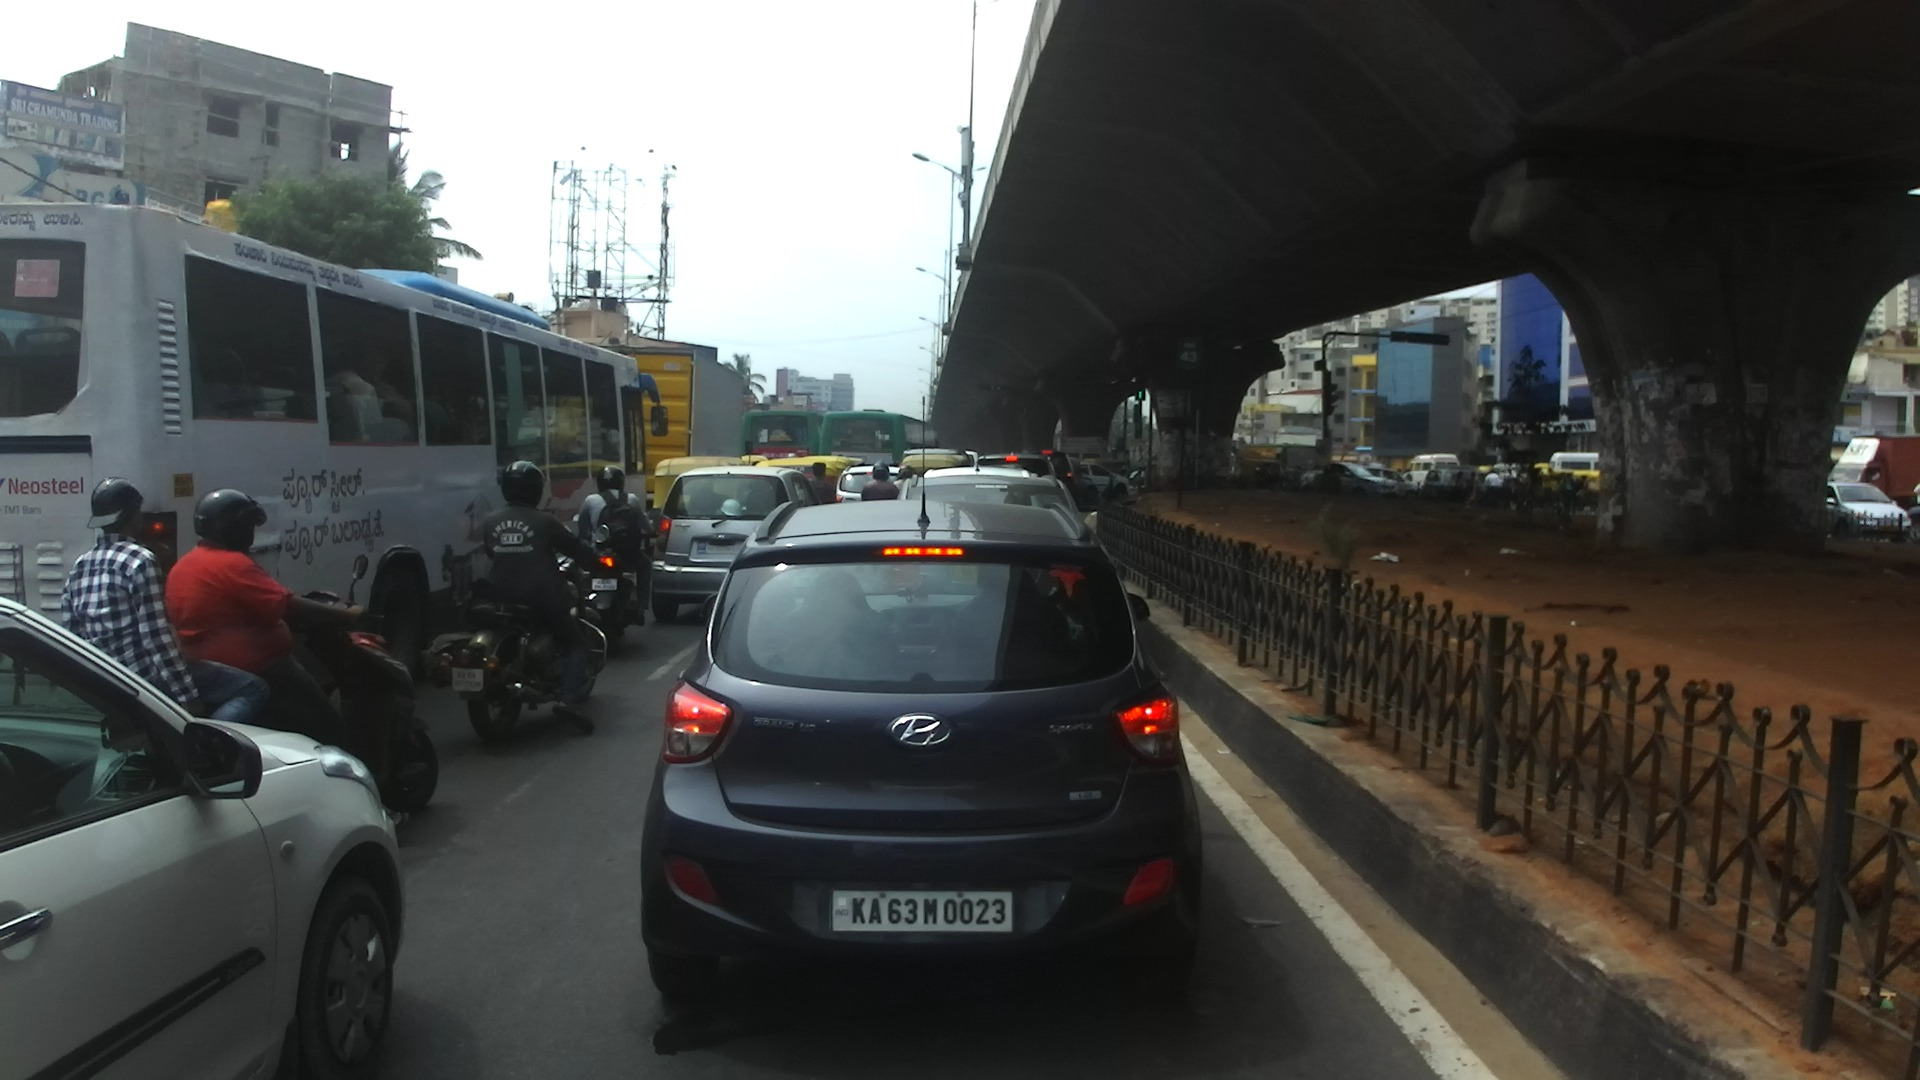autorickshaw: (653, 455, 745, 529), (754, 459, 842, 516), (803, 455, 863, 487), (900, 454, 969, 479), (1555, 469, 1602, 505), (1239, 458, 1285, 488), (740, 455, 769, 470), (1532, 462, 1551, 482), (1478, 465, 1497, 487)
bus: (1, 197, 668, 688), (819, 408, 941, 471), (743, 410, 826, 463), (1238, 443, 1321, 488), (1399, 452, 1460, 488), (1550, 451, 1601, 476)
car: (639, 396, 1204, 996), (1, 595, 404, 1080), (651, 464, 822, 622), (896, 473, 1079, 527), (1824, 481, 1911, 534), (834, 465, 914, 510), (1300, 462, 1398, 496), (1031, 449, 1079, 509), (902, 447, 973, 478), (974, 453, 1056, 480), (923, 467, 1038, 483), (1080, 461, 1130, 497), (1364, 466, 1418, 499), (1425, 464, 1481, 495), (1070, 461, 1098, 503), (1492, 462, 1529, 488), (964, 449, 980, 471)
motorcycle: (205, 553, 438, 816), (423, 524, 610, 742), (572, 508, 661, 655)
rider: (160, 489, 409, 833), (61, 473, 270, 729), (482, 460, 600, 731), (577, 465, 657, 626), (861, 461, 898, 504), (807, 462, 838, 506), (893, 466, 917, 495), (1483, 468, 1503, 488), (1468, 471, 1480, 489), (1455, 471, 1467, 489), (1506, 466, 1514, 486), (1395, 467, 1403, 477)
traffic light: (1407, 332, 1450, 345), (1132, 405, 1143, 440), (1329, 371, 1338, 414), (1390, 331, 1407, 341), (1313, 360, 1325, 370), (1136, 392, 1146, 400)
truck: (597, 344, 751, 520), (1826, 435, 1920, 508)
vehicle fallback: (1907, 505, 1916, 526)
